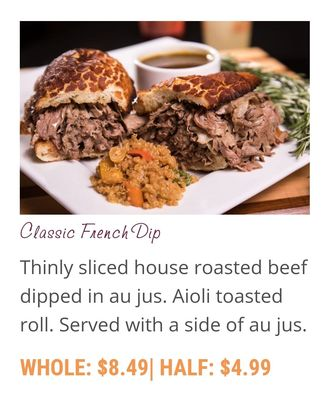sushi: (133, 40, 222, 91)
